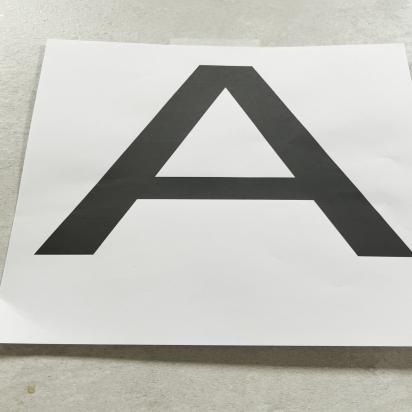seat: (4, 49, 412, 318)
